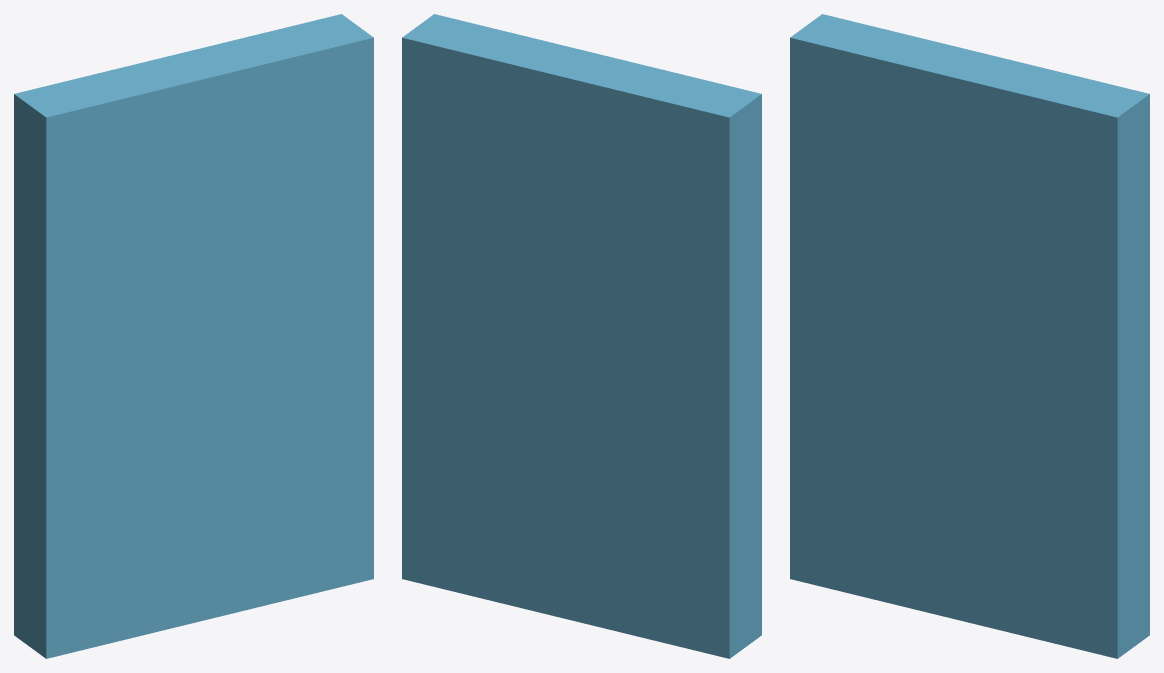
The model's file is dranmar_deformable_tetmesh_debug.glb.
The picture shows the model from 3 angles, left to right: view 1: azimuth 30°, elevation 25°; view 2: azimuth 150°, elevation 25°; view 3: azimuth 330°, elevation 25°; orthographic projection.
Parts seen in each view (by area): view 1: WallSurface; view 2: WallSurface; view 3: WallSurface.
Part boxes in pixels (x1,y1,x2,y2): WallSurface: (14, 14, 373, 658); WallSurface: (402, 14, 761, 658); WallSurface: (790, 14, 1149, 658).
Bounding box in the file's own units: 0.152 × 0.24 × 0.026.
